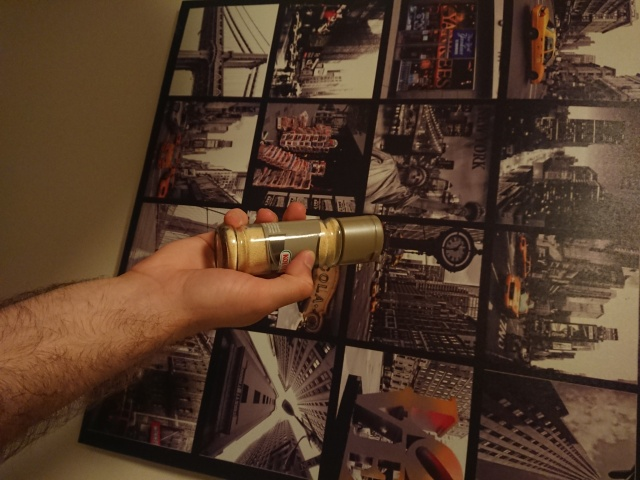Kotanyi Garlic Granules 70g: (212, 213, 386, 281)
